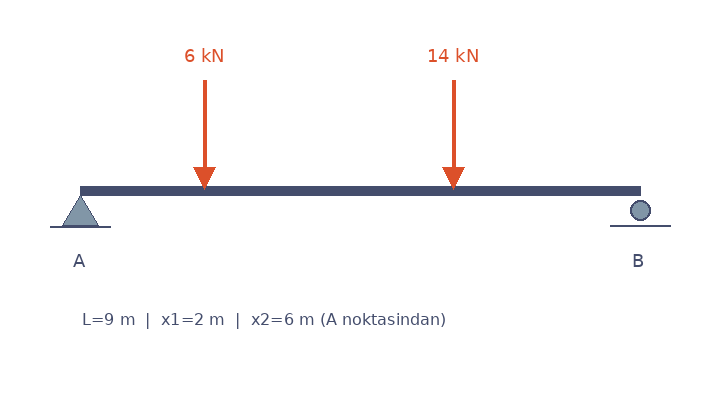pin_support: (61, 190, 99, 226)
point_load: (190, 76, 218, 190), (439, 76, 467, 190)
roller_support: (625, 196, 655, 227)
